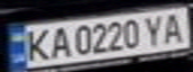0: (121, 16, 145, 50), (72, 22, 93, 56)
2: (90, 20, 112, 55), (106, 17, 127, 52)
A: (157, 10, 190, 44), (45, 24, 72, 60)
K: (21, 25, 54, 63)
Y: (139, 12, 169, 46)
